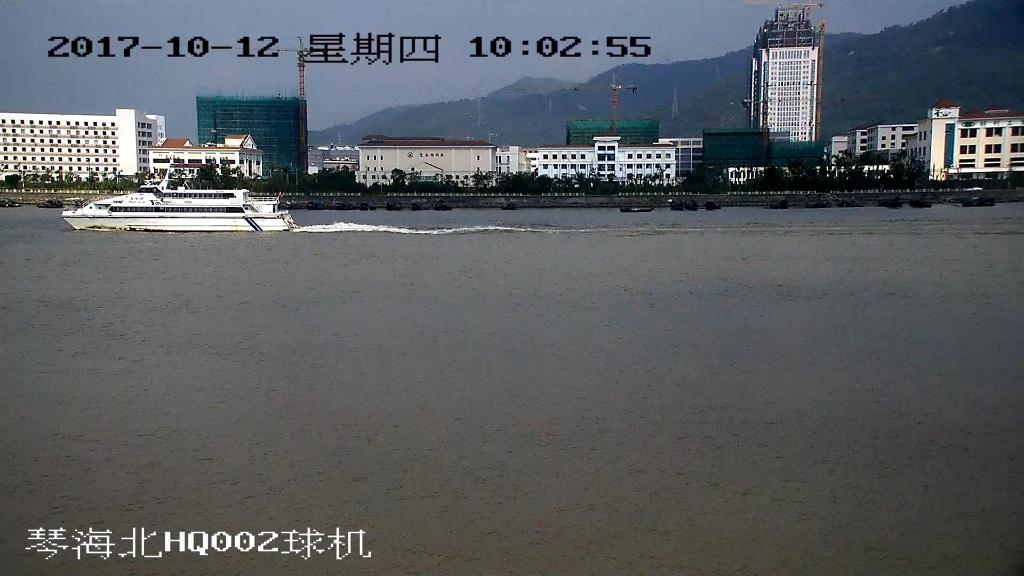PassengerShip: (56, 163, 304, 236)
